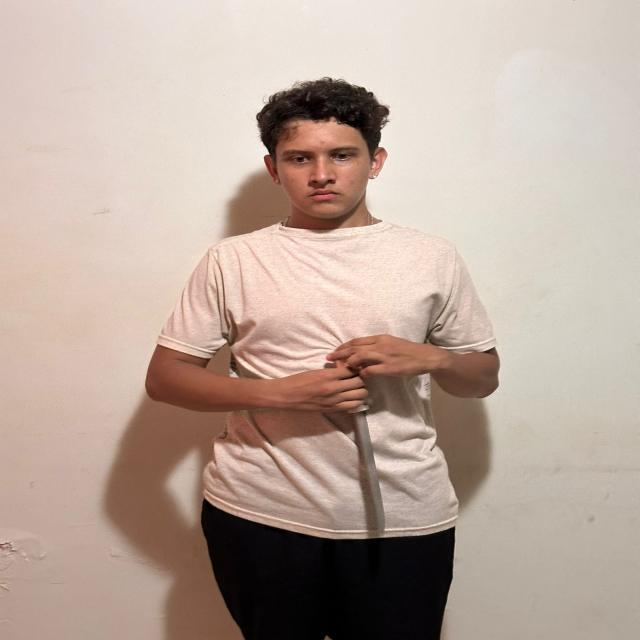knife: (353, 406, 383, 532)
